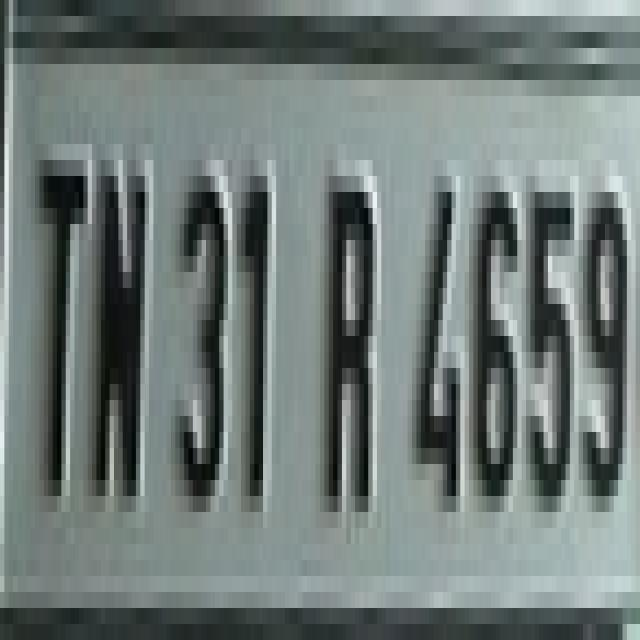1: (236, 140, 274, 524)
3: (178, 123, 232, 538)
4: (409, 154, 469, 520)
5: (526, 142, 578, 537)
6: (471, 142, 524, 530)
9: (584, 151, 632, 532)
N: (90, 128, 150, 530)
R: (323, 121, 380, 534)
T: (32, 123, 91, 513)
